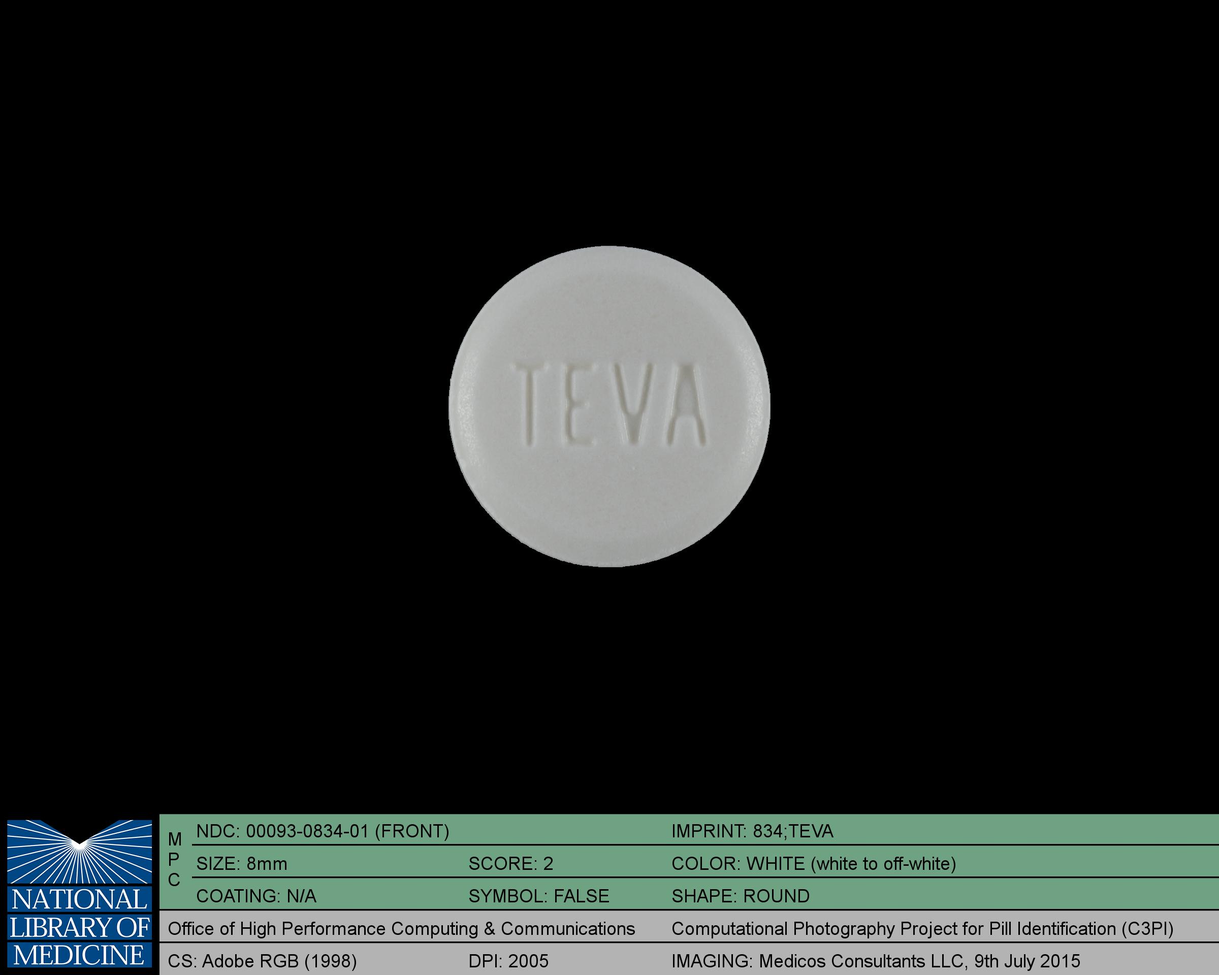Pill: (440, 232, 779, 574)
